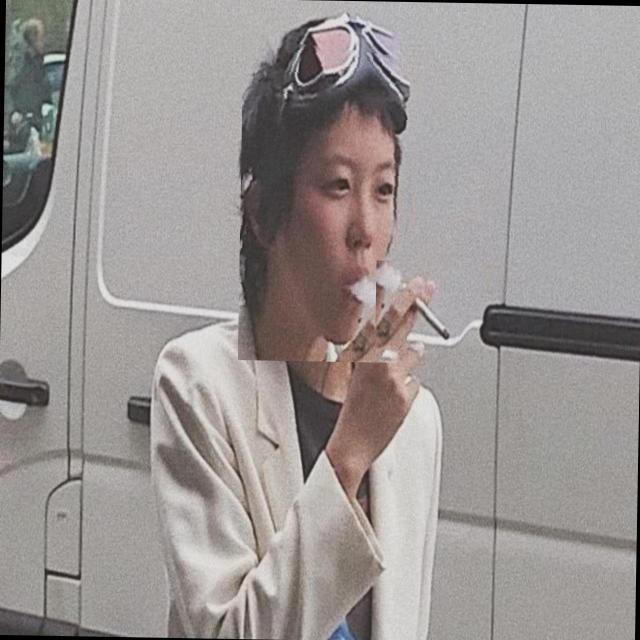cigarette: (374, 260, 468, 351)
